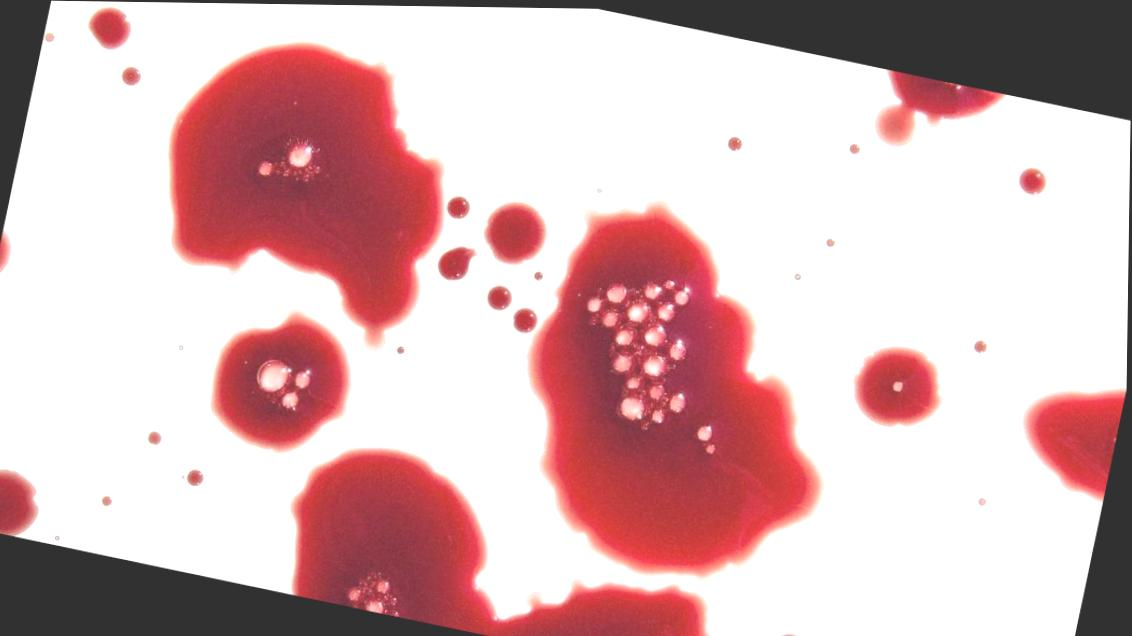Fire: (527, 197, 827, 578), (168, 40, 448, 349), (291, 446, 713, 636), (212, 307, 353, 452), (1023, 383, 1128, 498), (875, 67, 1007, 143), (854, 342, 945, 425), (484, 199, 549, 264), (0, 468, 41, 536), (87, 6, 132, 49), (438, 244, 479, 278), (1020, 164, 1048, 191), (488, 283, 514, 309), (514, 305, 539, 331), (0, 229, 13, 274), (448, 194, 472, 218), (188, 468, 206, 486), (149, 430, 164, 444), (780, 630, 804, 636)
